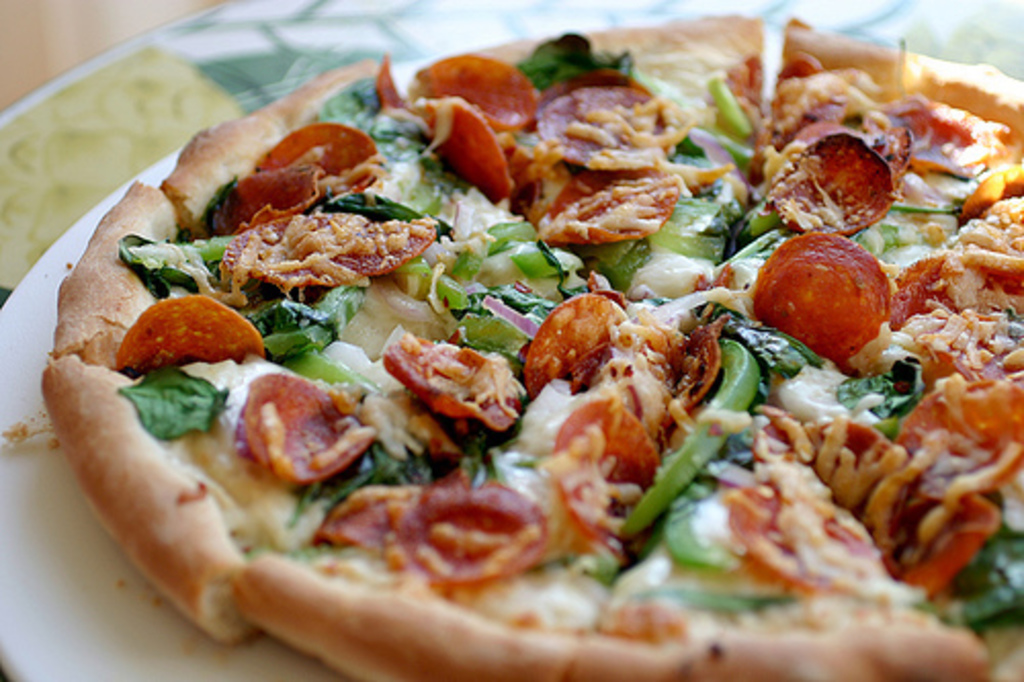Pizza: (2, 0, 1003, 677)
